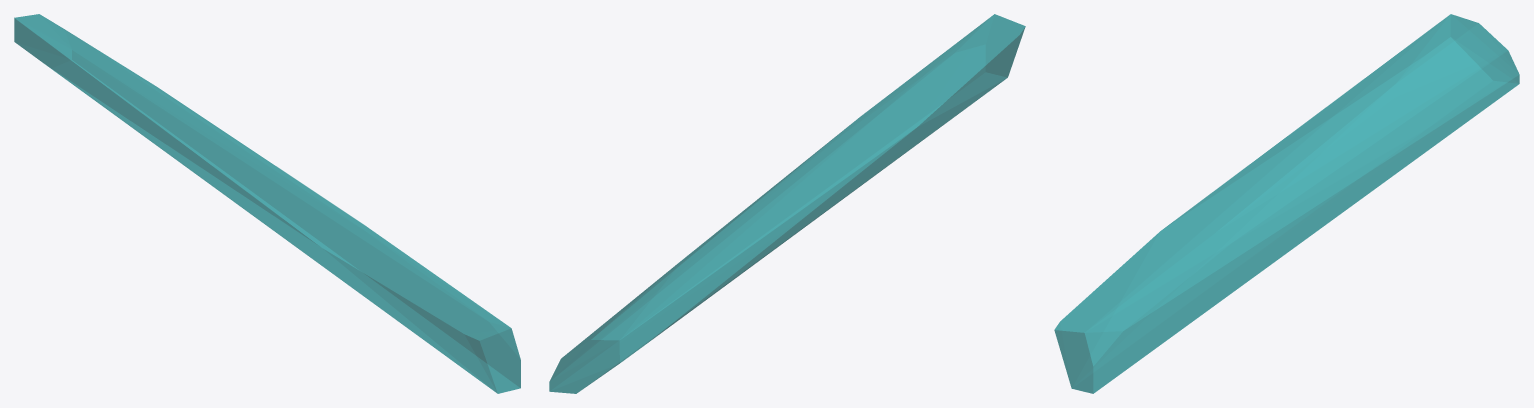
The picture shows the model from 3 angles, left to right: view 1: azimuth 30°, elevation 25°; view 2: azimuth 150°, elevation 25°; view 3: azimuth 330°, elevation 25°; orthographic projection. The views are drawn at different scales.
Parts seen in each view (by area): view 1: Shape_IndexedFaceSet.026_Shape_IndexedFaceSet.18087; view 2: Shape_IndexedFaceSet.026_Shape_IndexedFaceSet.18087; view 3: Shape_IndexedFaceSet.026_Shape_IndexedFaceSet.18087.
Boxes of the visible parts, bbox=[...] form: Shape_IndexedFaceSet.026_Shape_IndexedFaceSet.18087: bbox=[14, 14, 520, 393]; Shape_IndexedFaceSet.026_Shape_IndexedFaceSet.18087: bbox=[549, 14, 1025, 393]; Shape_IndexedFaceSet.026_Shape_IndexedFaceSet.18087: bbox=[1054, 14, 1519, 393].
Bounding box in the file's own units: 0.0421 × 0.0391 × 0.5017.
